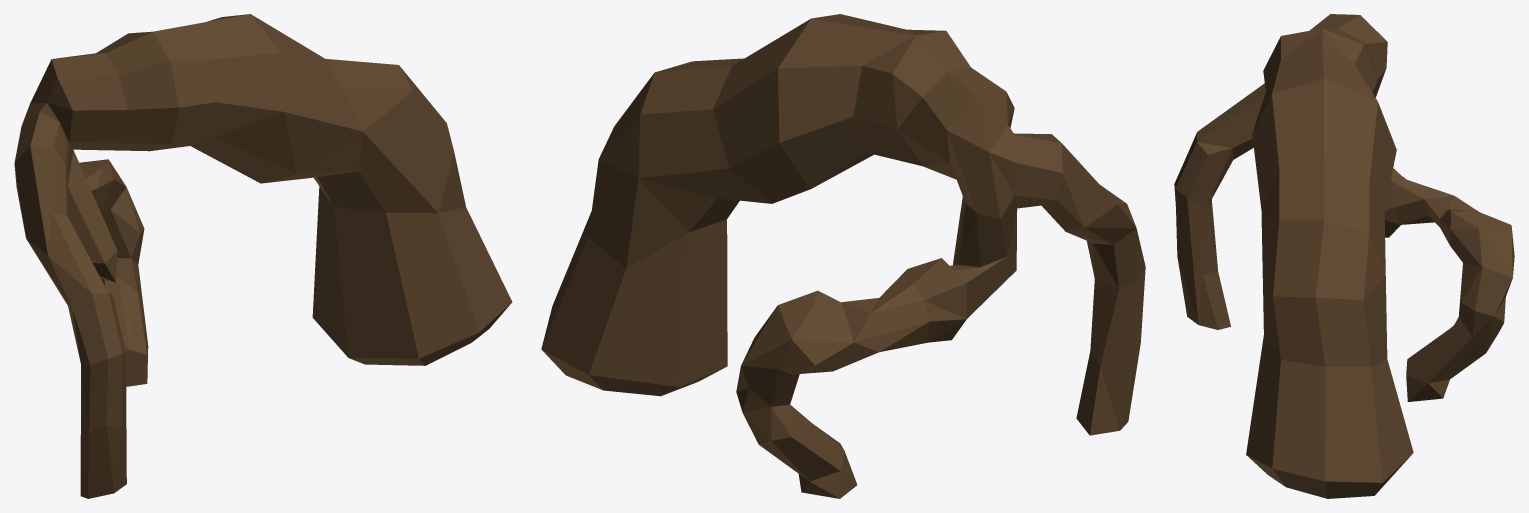
3 renders of one model, left to right at view 1: azimuth 30°, elevation 25°; view 2: azimuth 150°, elevation 25°; view 3: azimuth 270°, elevation 25°, orthographic. The views are drawn at different scales.
Visible parts, largest first — view 1: EM_Root2a_LOD0; view 2: EM_Root2a_LOD0; view 3: EM_Root2a_LOD0.
Part boxes in pixels (x1=…): EM_Root2a_LOD0: x1=14, y1=14, x2=512, y2=498; EM_Root2a_LOD0: x1=541, y1=14, x2=1145, y2=498; EM_Root2a_LOD0: x1=1174, y1=14, x2=1514, y2=498.
Size of what is drawn, in the model's own units: 2 by 1.54 by 1.34.
